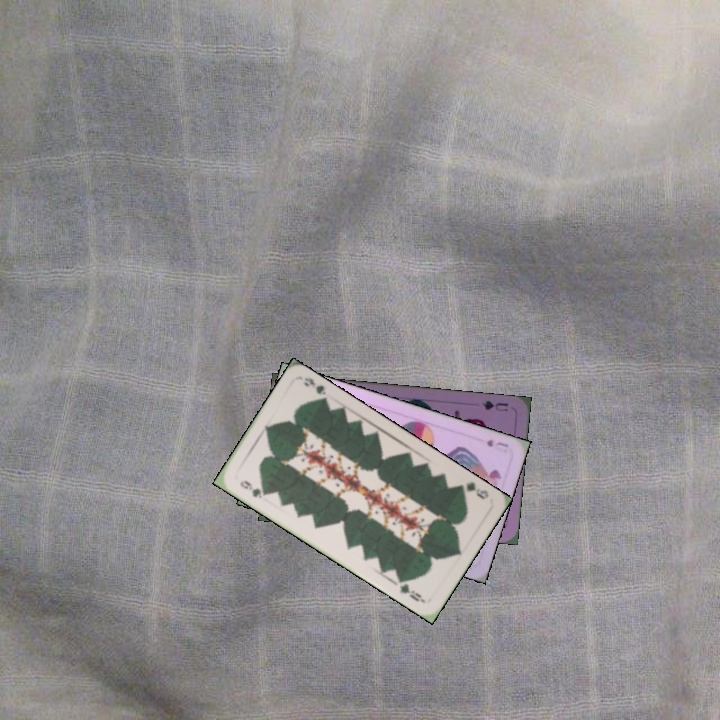G9: (453, 478, 491, 502), (236, 476, 271, 501)
GU: (478, 397, 510, 414)
SU: (482, 435, 511, 450)
